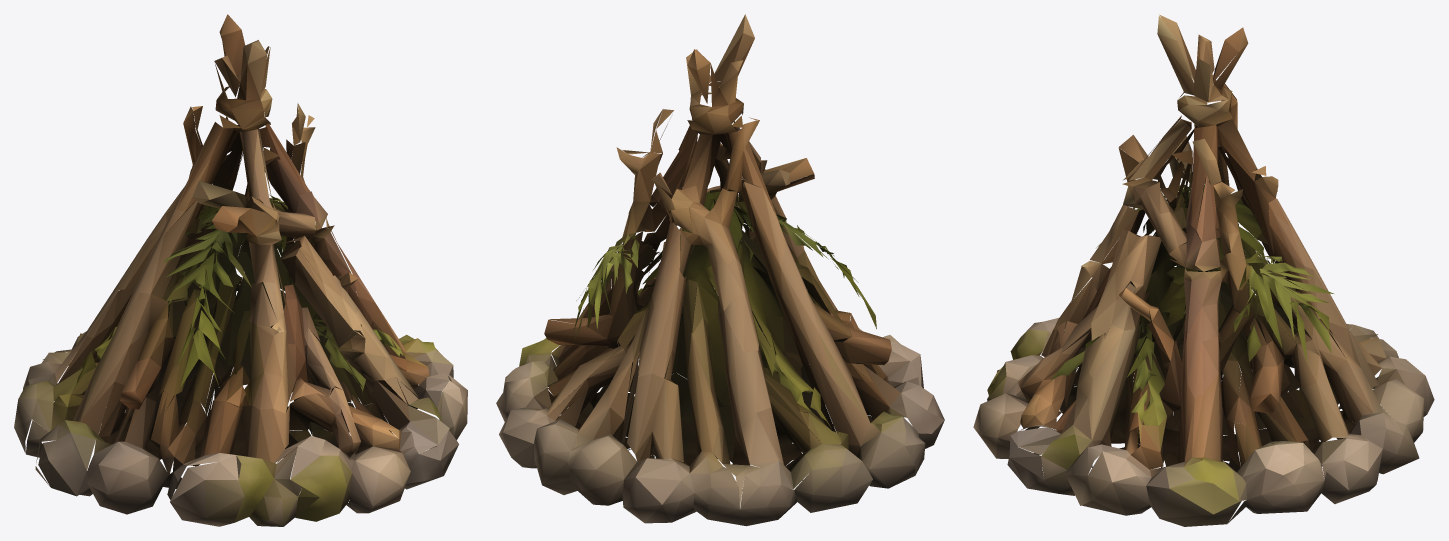
The model's file is building-beacon.glb.
The picture shows the model from 3 angles, left to right: view 1: azimuth 30°, elevation 25°; view 2: azimuth 150°, elevation 25°; view 3: azimuth 270°, elevation 25°; orthographic projection. The views are drawn at different scales.
Parts seen in each view (by area): view 1: 0_beacon; view 2: 0_beacon; view 3: 0_beacon.
Part boxes in pixels (box(x1,y1,x2,y2)): 0_beacon: box(14, 14, 467, 526); 0_beacon: box(496, 14, 944, 526); 0_beacon: box(973, 14, 1434, 526).
Bounding box in the file's own units: 1.92 × 1.91 × 1.9.
